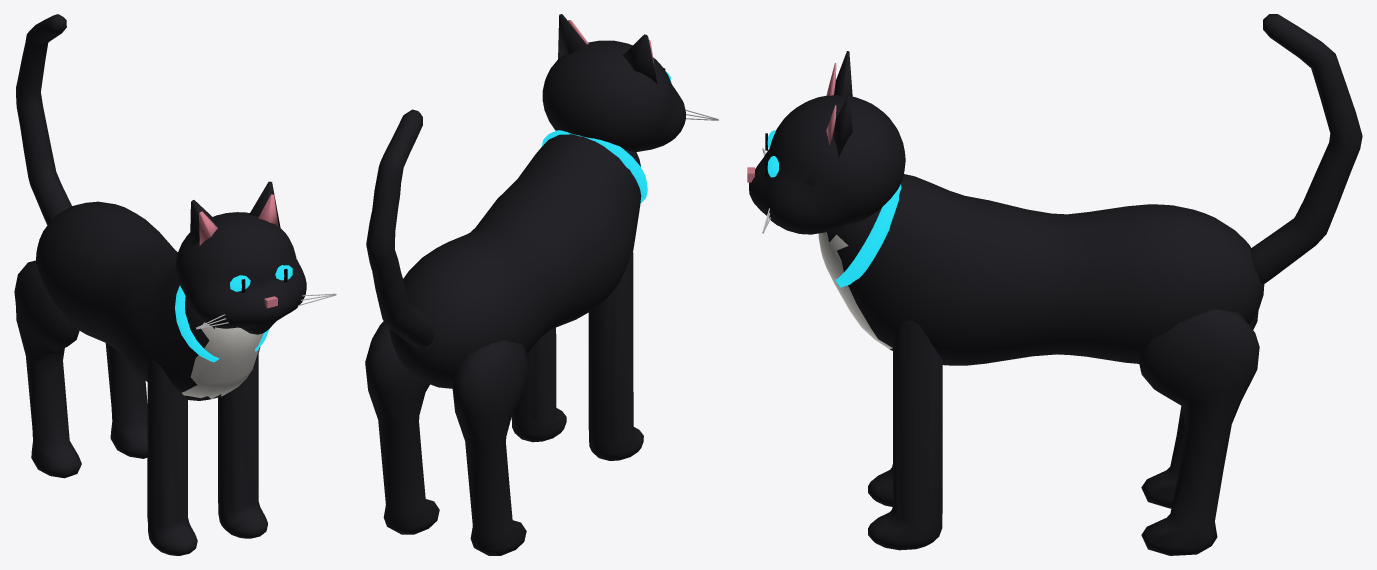
The model's file is Pet_Cat_Walk.glb.
3 views of the same model, side by side, from view 1: azimuth 30°, elevation 25°; view 2: azimuth 150°, elevation 25°; view 3: azimuth 270°, elevation 25° (orthographic). The views are drawn at different scales.
Visible parts, largest first — view 1: Pet_Cat_Walk, CatWalk_Head, CatWalk_Leg_BR, CatWalk_Leg_FR, CatWalk_Leg_FL, CatWalk_Tail, CatWalk_Leg_BL; view 2: Pet_Cat_Walk, CatWalk_Head, CatWalk_Leg_BR, CatWalk_Leg_BL, CatWalk_Leg_FR, CatWalk_Tail, CatWalk_Leg_FL; view 3: Pet_Cat_Walk, CatWalk_Head, CatWalk_Leg_BL, CatWalk_Leg_FL, CatWalk_Tail, CatWalk_Leg_BR, CatWalk_Leg_FR.
Part boxes in pixels (x1,y1,x2,y2): Pet_Cat_Walk: (35, 201, 268, 400); CatWalk_Head: (176, 181, 336, 334); CatWalk_Leg_BR: (14, 260, 81, 478); CatWalk_Leg_FR: (147, 360, 197, 555); CatWalk_Leg_FL: (218, 354, 267, 538); CatWalk_Tail: (16, 14, 71, 224); CatWalk_Leg_BL: (105, 343, 147, 458); Pet_Cat_Walk: (389, 130, 647, 388); CatWalk_Head: (542, 14, 718, 151); CatWalk_Leg_BR: (452, 340, 528, 555); CatWalk_Leg_BL: (365, 321, 439, 534); CatWalk_Leg_FR: (588, 251, 643, 460); CatWalk_Tail: (366, 109, 435, 348); CatWalk_Leg_FL: (511, 327, 566, 442); Pet_Cat_Walk: (818, 174, 1264, 365); CatWalk_Head: (747, 51, 905, 234); CatWalk_Leg_BL: (1137, 309, 1259, 555); CatWalk_Leg_FL: (868, 320, 942, 550); CatWalk_Tail: (1250, 14, 1362, 284); CatWalk_Leg_BR: (1141, 310, 1258, 508); CatWalk_Leg_FR: (868, 351, 893, 506).
Size of the model in its own units: 0.1594 by 0.4543 by 0.4938.
